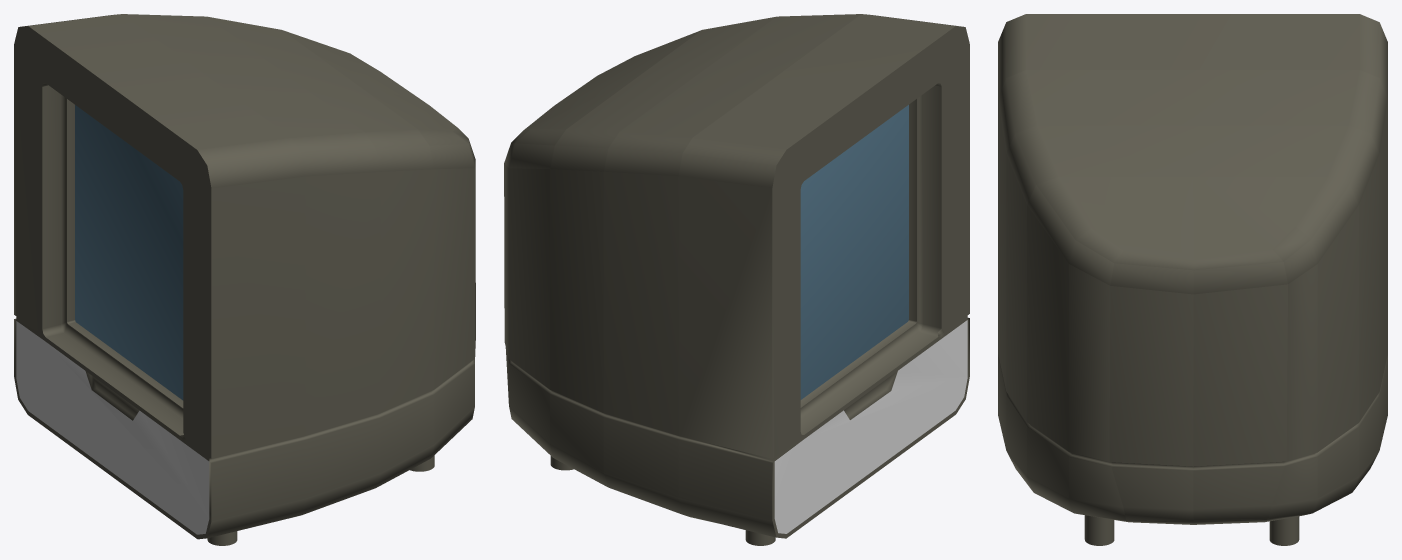
File: monitor_tier10.fbx
3 renders of one model, left to right at view 1: azimuth 30°, elevation 25°; view 2: azimuth 150°, elevation 25°; view 3: azimuth 270°, elevation 25°, orthographic.
Visible parts, largest first — view 1: Cube.003; view 2: Cube.003; view 3: Cube.003.
Part boxes in pixels (x1,y1,x2,y2): Cube.003: (14,14,475,545); Cube.003: (504,14,969,545); Cube.003: (998,14,1387,545).
Size of the model in its own units: 0.4823 by 0.5694 by 0.502.
